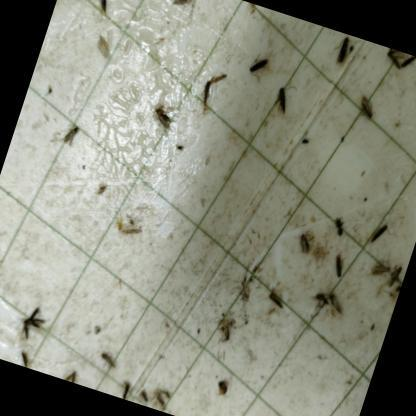prays_oleae: (188, 70, 224, 132), (259, 283, 298, 321), (16, 306, 52, 344), (353, 86, 384, 127), (268, 76, 298, 114), (328, 34, 355, 75), (150, 98, 180, 134), (366, 249, 394, 286), (381, 259, 406, 299), (366, 216, 390, 254), (292, 226, 317, 261), (246, 50, 271, 82), (325, 288, 347, 322), (330, 248, 354, 279), (308, 282, 332, 313), (326, 216, 350, 247), (380, 49, 405, 78), (96, 344, 118, 373), (88, 0, 119, 20), (126, 0, 162, 15), (398, 54, 416, 76), (62, 121, 80, 142), (166, 0, 196, 11), (136, 386, 152, 406), (152, 388, 168, 408), (119, 378, 133, 400)
